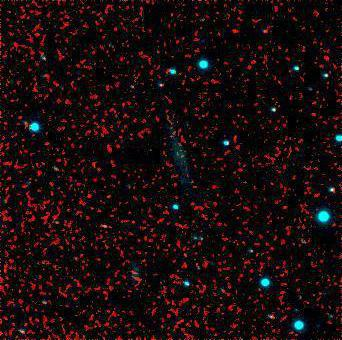star: (220, 15, 250, 45)
